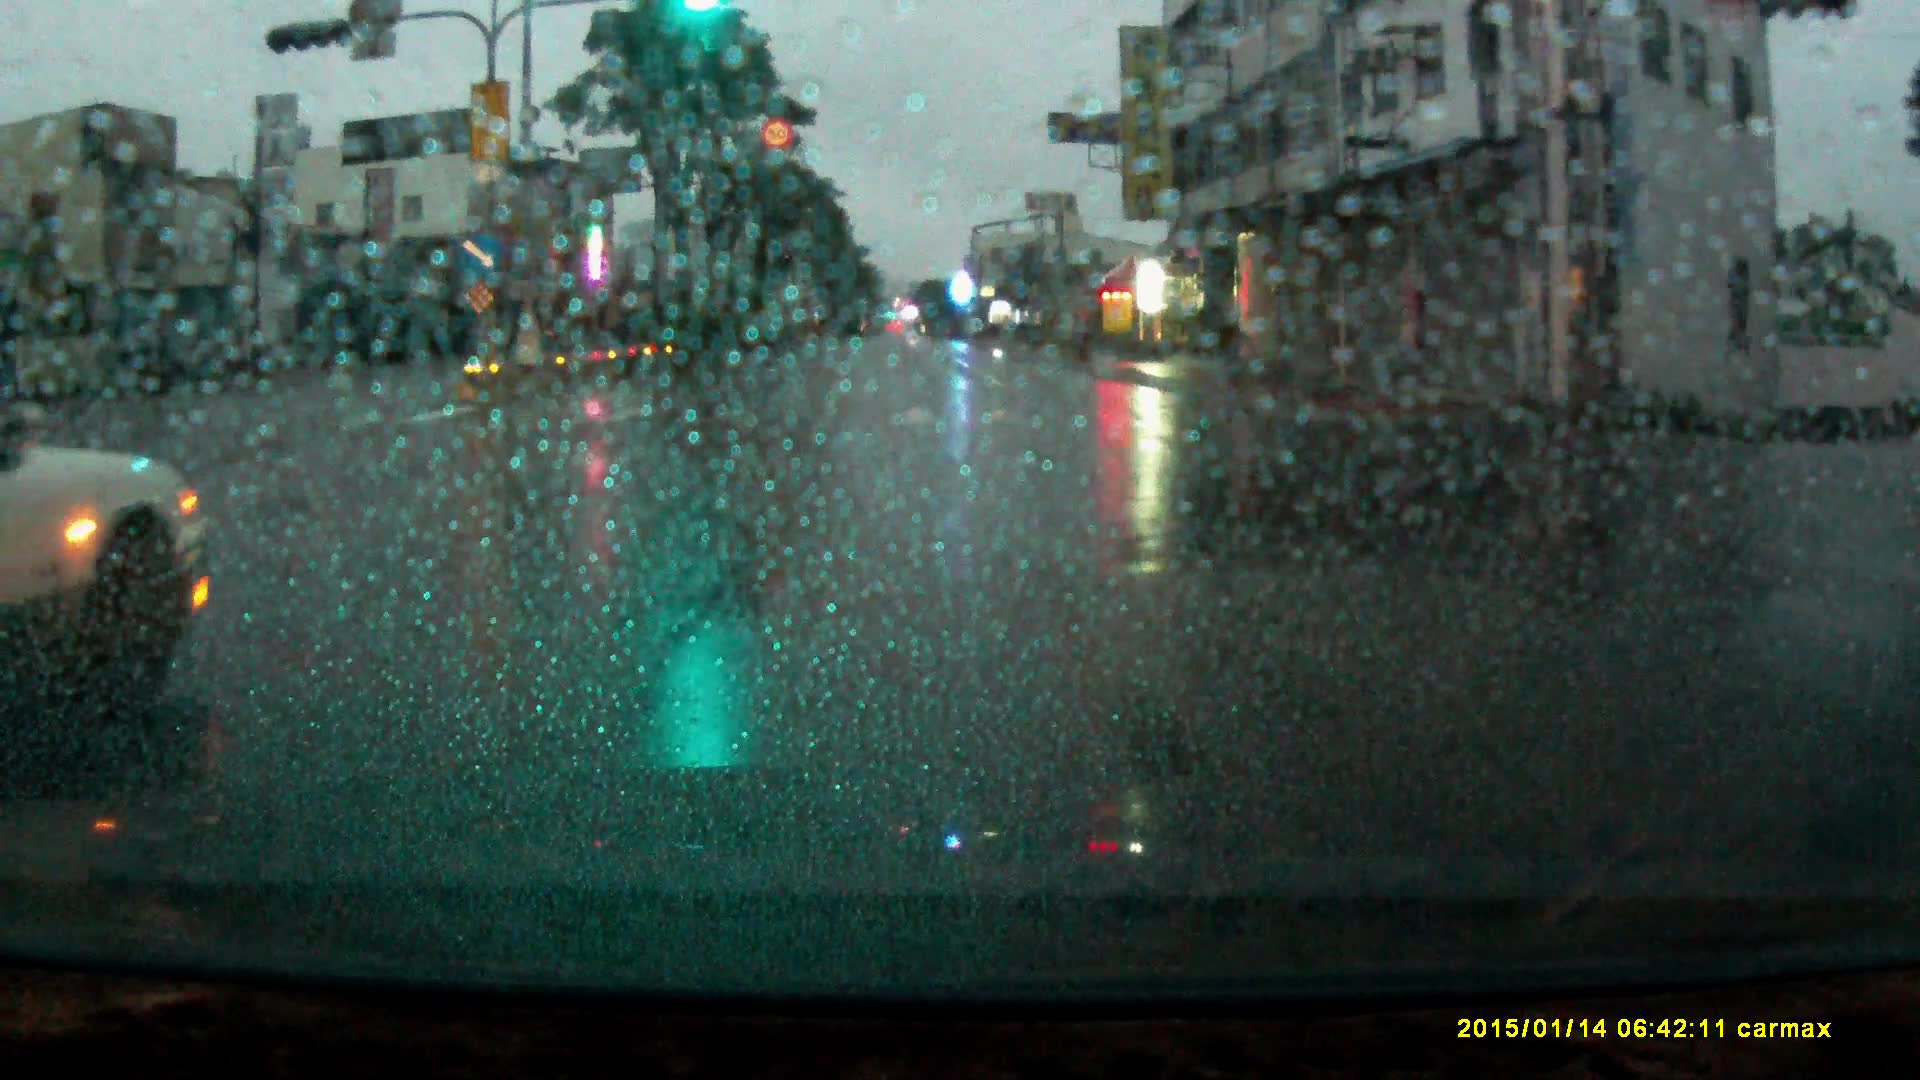vehicle: (1, 400, 211, 711)
